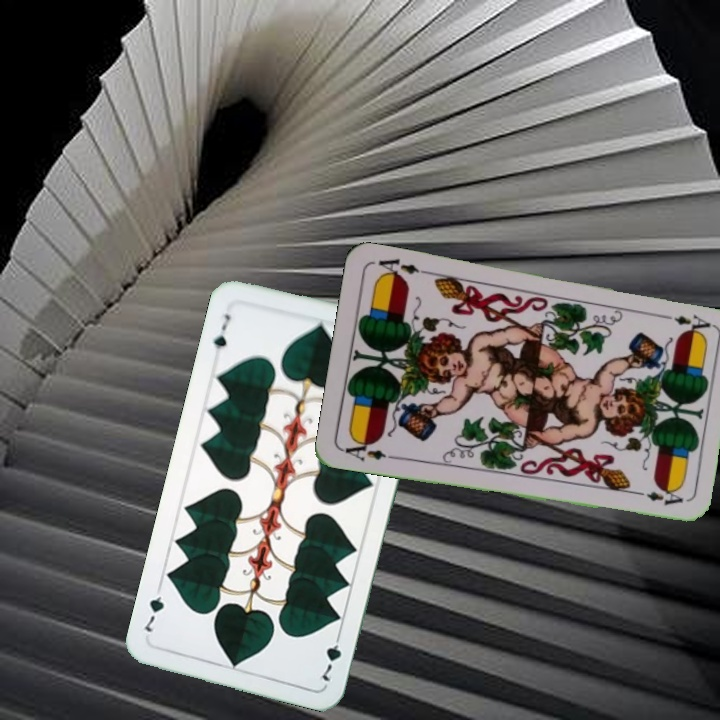EA: (339, 435, 398, 464), (655, 310, 714, 331)
G7: (317, 628, 345, 684), (209, 309, 233, 352)
